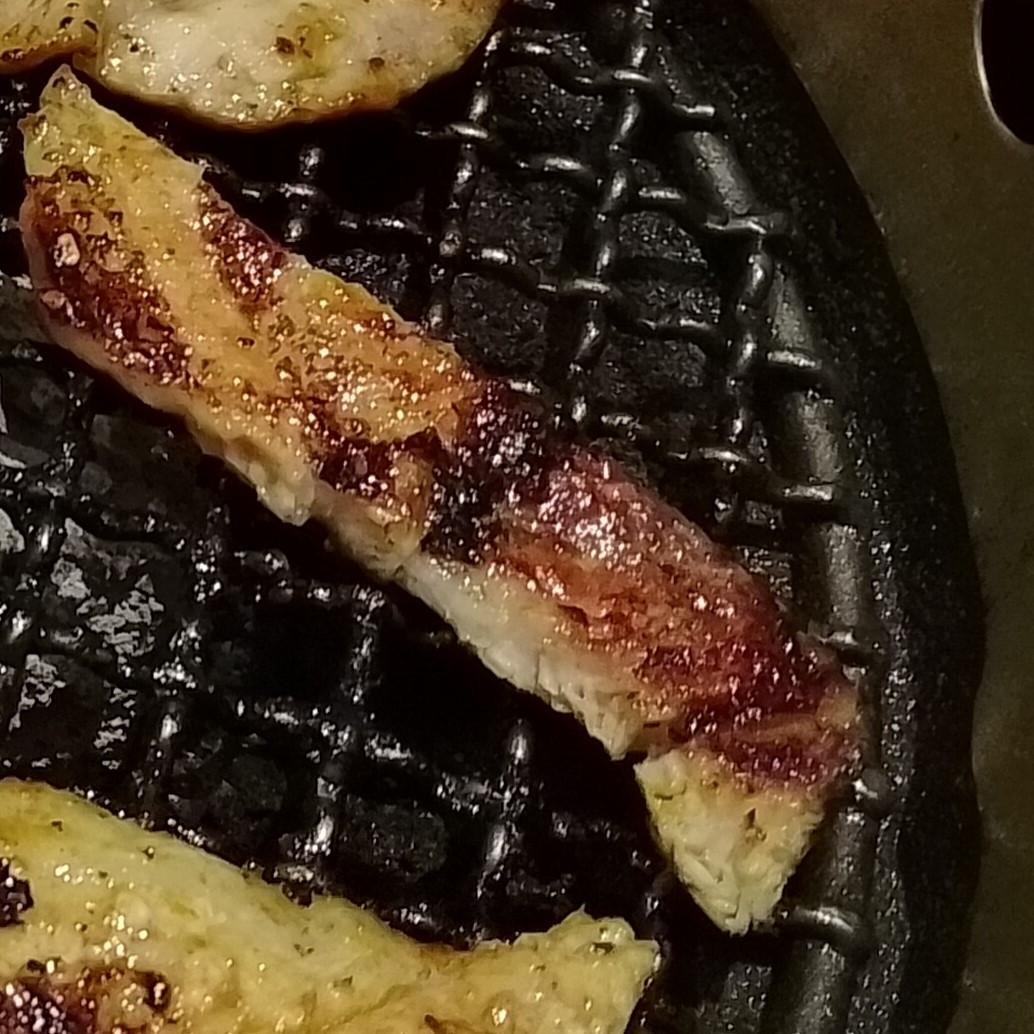Overcooked: (19, 66, 858, 931)
